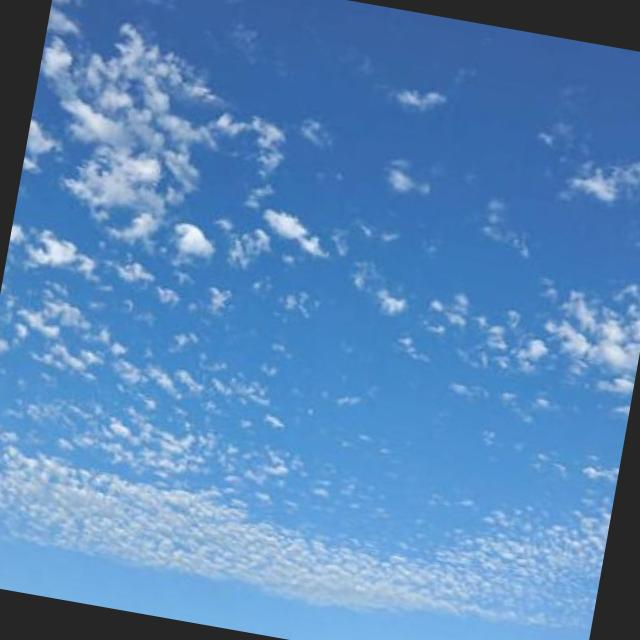altocumulus: (0, 432, 605, 640), (7, 0, 307, 294), (0, 278, 313, 442), (511, 260, 640, 426)
